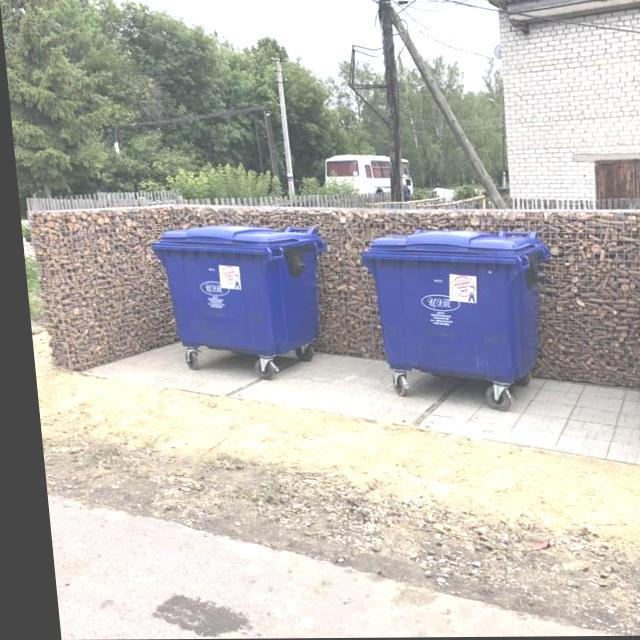Trash_Can_Closed: (354, 229, 553, 383), (145, 225, 330, 358)
